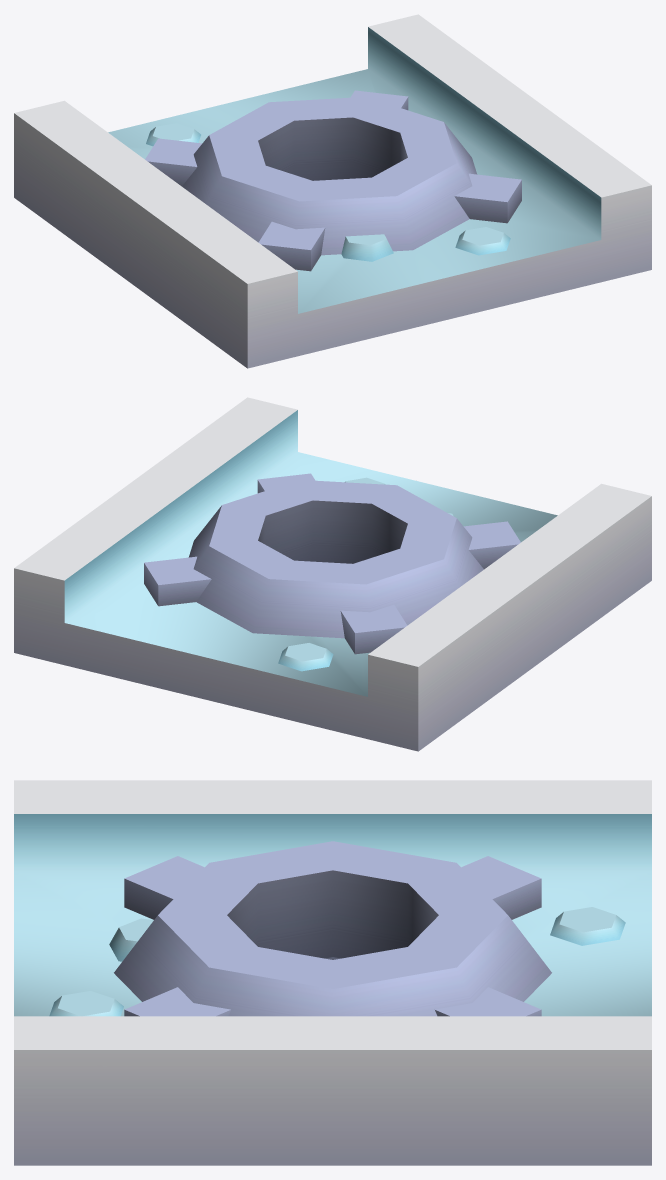
File: kenney-tower-defense-snow-tile-spawn-round.glb
3 renders of one model, top to bottom at view 1: azimuth 30°, elevation 25°; view 2: azimuth 150°, elevation 25°; view 3: azimuth 270°, elevation 25°, orthographic. The views are drawn at different scales.
Visible parts, largest first — view 1: snow-tile-spawn-round; view 2: snow-tile-spawn-round; view 3: snow-tile-spawn-round.
Part boxes in pixels (x1,y1,x2,y2): snow-tile-spawn-round: (14,14,651,368); snow-tile-spawn-round: (14,397,651,751); snow-tile-spawn-round: (14,780,651,1165).
Bounding box in the file's own units: 1 × 0.2 × 1.
Materials: 1 (1 with a texture image).
